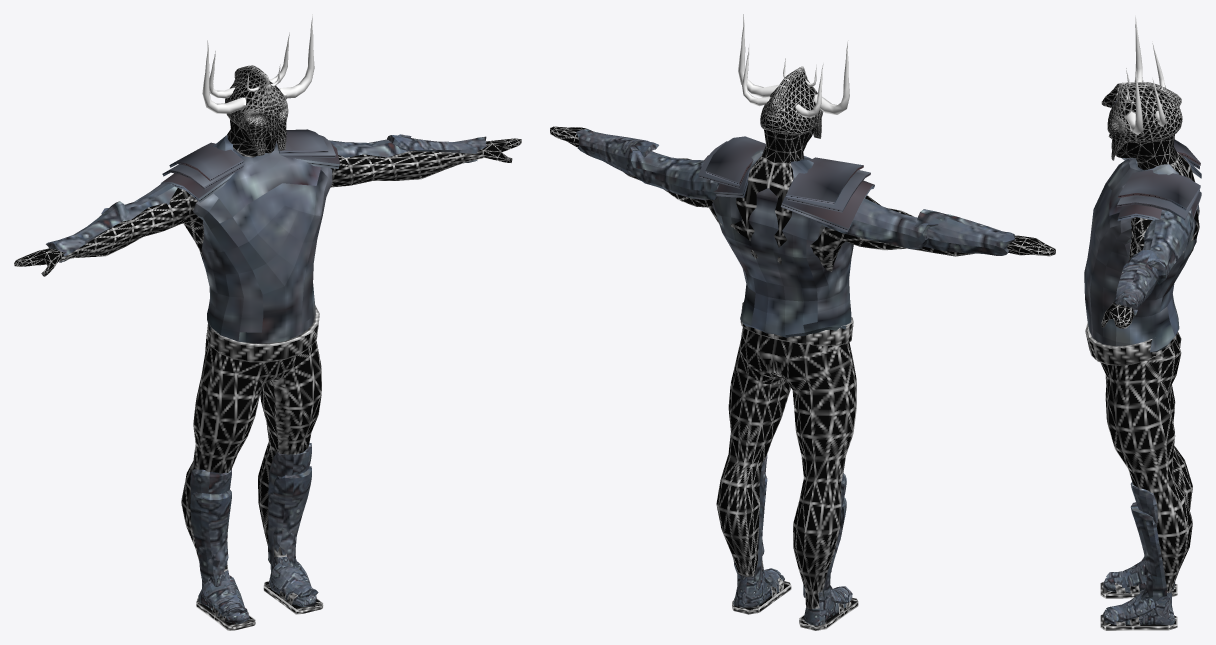
The model's file is lastboss.obj.
The picture shows the model from 3 angles, left to right: view 1: azimuth 30°, elevation 25°; view 2: azimuth 150°, elevation 25°; view 3: azimuth 270°, elevation 25°; orthographic projection. The views are drawn at different scales.
Visible parts, largest first — view 1: polySurface19; view 2: polySurface19; view 3: polySurface19.
Boxes of the visible parts, x1,y1,x2,y2 form: polySurface19: [14, 14, 521, 630]; polySurface19: [550, 14, 1055, 630]; polySurface19: [1084, 15, 1201, 630].
Size of the model in its own units: 19.23 by 21.06 by 3.94.
1 material, 1 textured.
